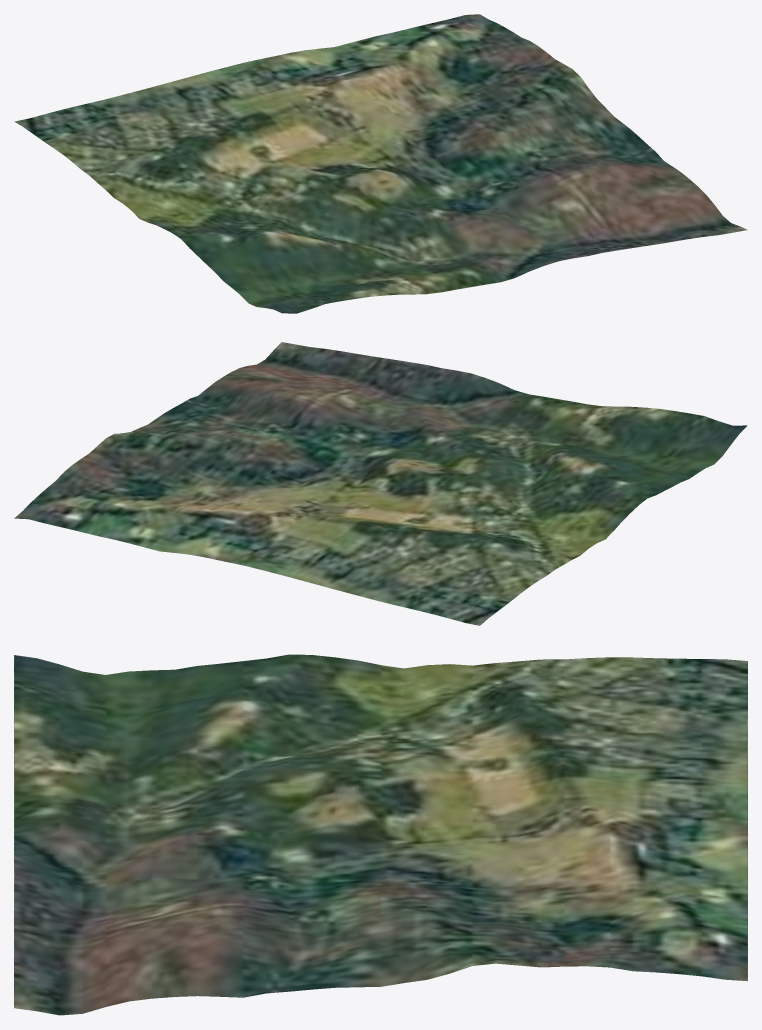
The picture shows the model from 3 angles, top to bottom: view 1: azimuth 30°, elevation 25°; view 2: azimuth 150°, elevation 25°; view 3: azimuth 270°, elevation 25°; orthographic projection. The views are drawn at different scales.
Bounding box in the file's own units: 1950 × 161 × 1941.
1 material, 1 textured.
